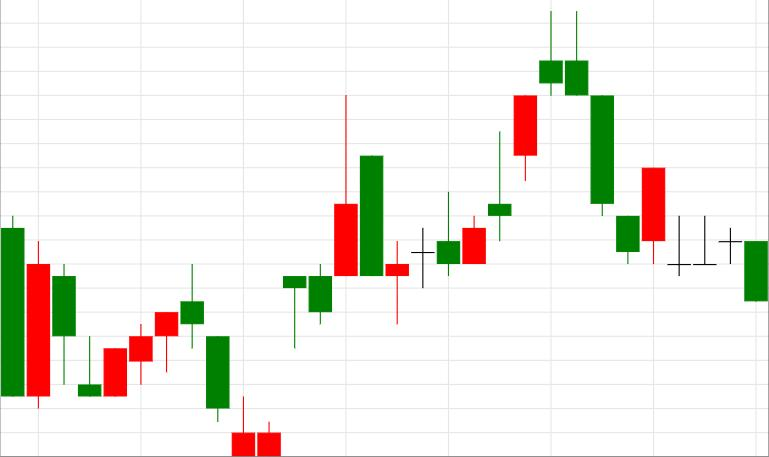shooting_star_fall: (386, 11, 588, 324), (386, 12, 562, 325)
three_black_crows_fall: (385, 12, 639, 324)
